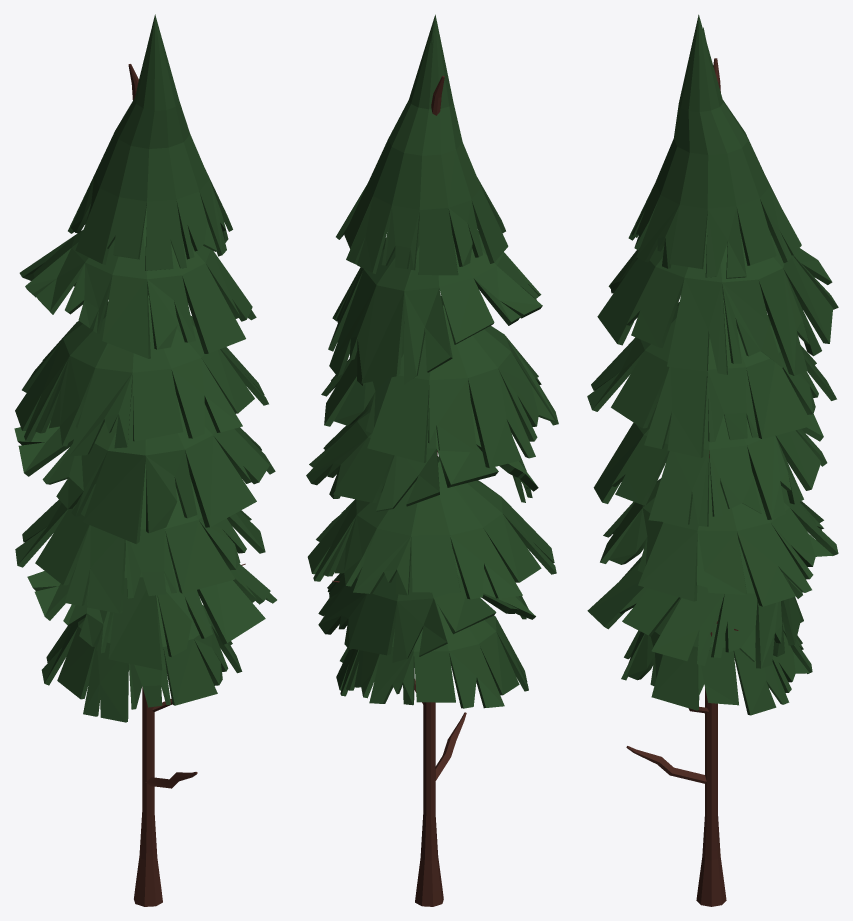
Rendered from SM_tree_conifer_02.fbx.
3 views of the same model, side by side, from view 1: azimuth 30°, elevation 25°; view 2: azimuth 150°, elevation 25°; view 3: azimuth 270°, elevation 25° (orthographic).
Visible parts, largest first — view 1: Line115; view 2: Line115; view 3: Line115.
Part boxes in pixels (<box>): Line115: <box>14,14,276,906</box>; Line115: <box>306,14,558,906</box>; Line115: <box>587,14,838,906</box>.
Bounding box in the file's own units: 126 × 471 × 121.
